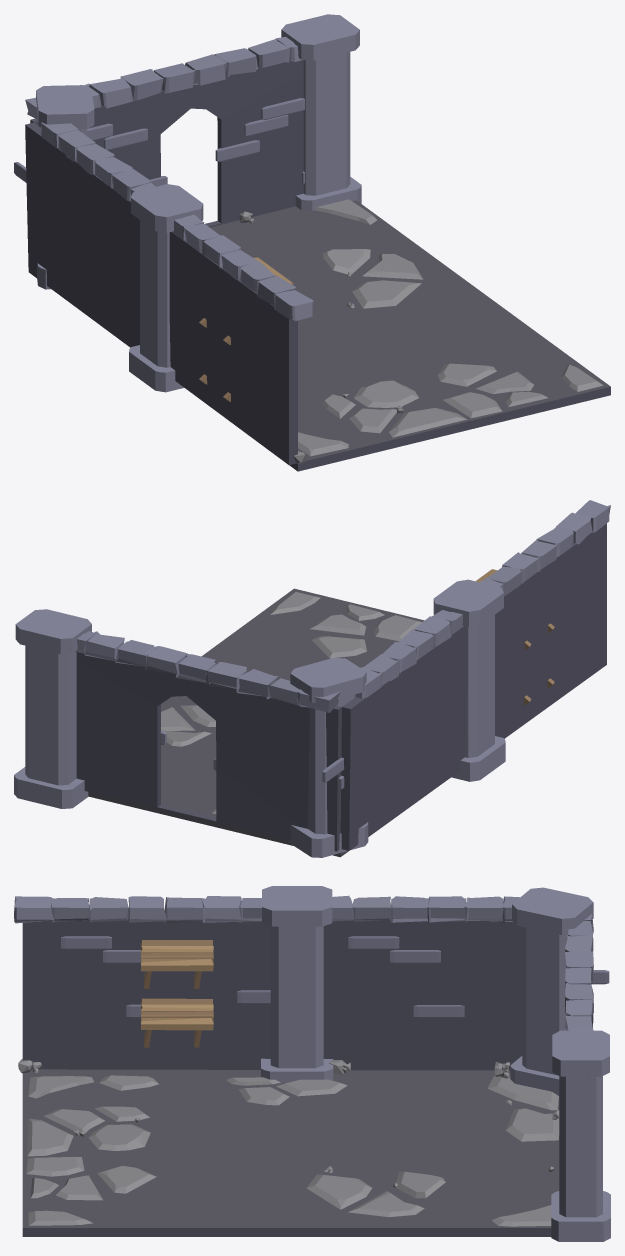
The picture shows the model from 3 angles, top to bottom: view 1: azimuth 30°, elevation 25°; view 2: azimuth 150°, elevation 25°; view 3: azimuth 270°, elevation 25°; orthographic projection. The views are drawn at different scales.
Parts seen in each view (by area): view 1: Plane, Rock, Cube.003, Cube.002, Cube, Cube.001, BricksOnWall.001, pillar; view 2: Plane, Cube.003, Cube.002, Cube, Cube.001, pillar, Rock; view 3: Plane, Rock, Cube.002, Cube, Cube.003, pillar, BricksOnWall, Cube.001, Shelf.001, Shelf.
Boxes of the visible parts, x1,y1,x2,y2 form: Plane: [25, 59, 610, 471]; Rock: [298, 199, 603, 456]; Cube.003: [281, 14, 361, 210]; Cube.002: [129, 184, 203, 392]; Cube: [41, 122, 313, 320]; Cube.001: [25, 36, 301, 119]; BricksOnWall.001: [87, 98, 304, 186]; pillar: [36, 85, 94, 289]; Plane: [76, 523, 606, 857]; Cube.003: [14, 609, 91, 808]; Cube.002: [433, 579, 505, 781]; Cube: [355, 500, 610, 698]; Cube.001: [75, 631, 340, 712]; pillar: [288, 658, 368, 857]; Rock: [161, 591, 422, 813]; Plane: [22, 914, 559, 1236]; Rock: [26, 1075, 559, 1226]; Cube.002: [261, 886, 333, 1082]; Cube: [14, 895, 519, 923]; Cube.003: [551, 1030, 610, 1241]; pillar: [510, 887, 593, 1095]; BricksOnWall: [61, 936, 609, 1017]; Cube.001: [565, 914, 593, 1078]; Shelf.001: [140, 998, 213, 1047]; Shelf: [140, 940, 213, 989].
Size of the model in its own units: 783 by 390 by 1128.
